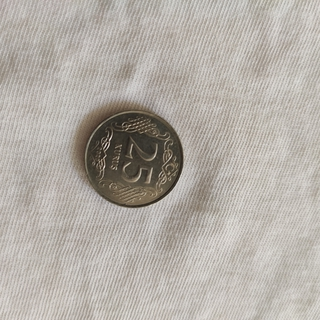25KURUS: (82, 108, 184, 208)
